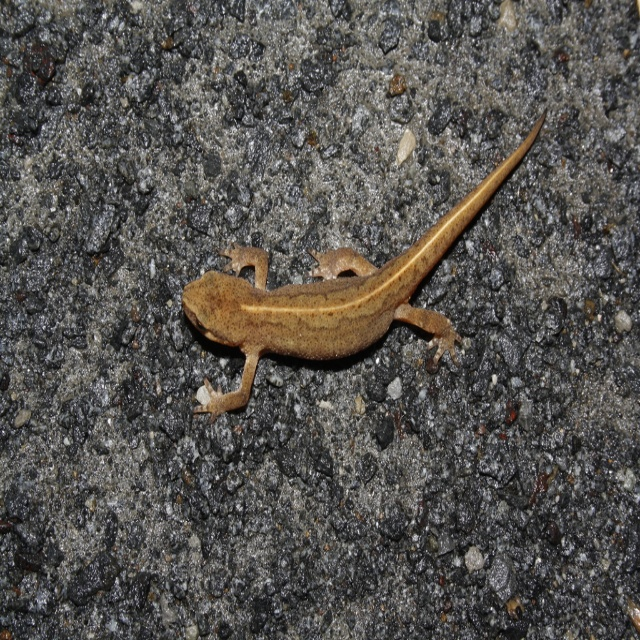Lizard: (174, 124, 562, 433)
